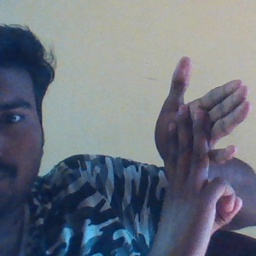M: (152, 53, 252, 233)
